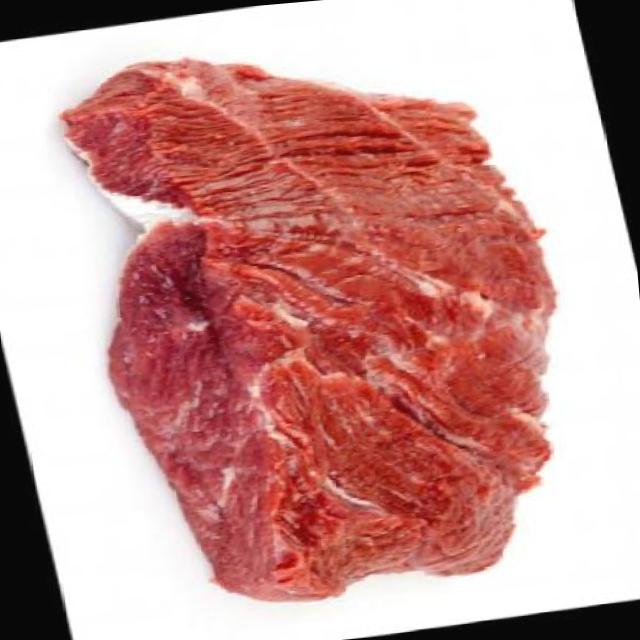beef: (43, 27, 577, 613)
